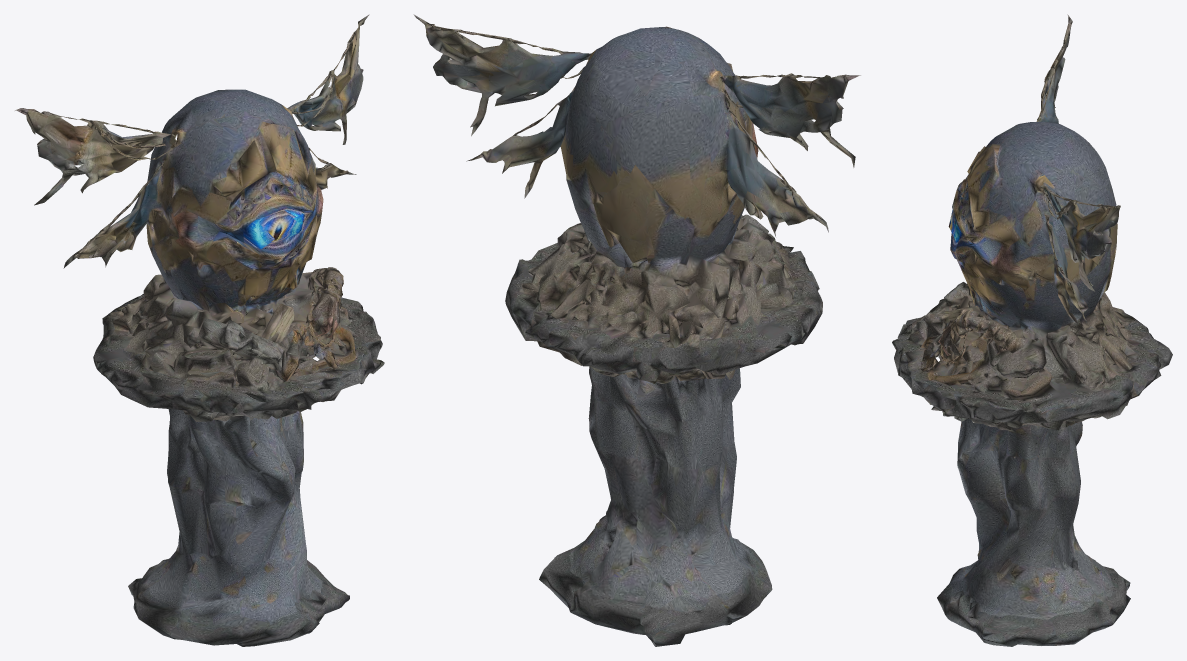
The model's file is all_seeing_void_statue.glb.
3 views of the same model, side by side, from view 1: azimuth 30°, elevation 25°; view 2: azimuth 150°, elevation 25°; view 3: azimuth 270°, elevation 25° (orthographic). The views are drawn at different scales.
Parts seen in each view (by area): view 1: mesh_node; view 2: mesh_node; view 3: mesh_node.
Part boxes in pixels (<box>): mesh_node: <box>15,14,384,646</box>; mesh_node: <box>413,14,860,646</box>; mesh_node: <box>892,14,1172,646</box>.
Bounding box in the file's own units: 1.41 × 1.89 × 0.9565.
1 material, 1 textured.
